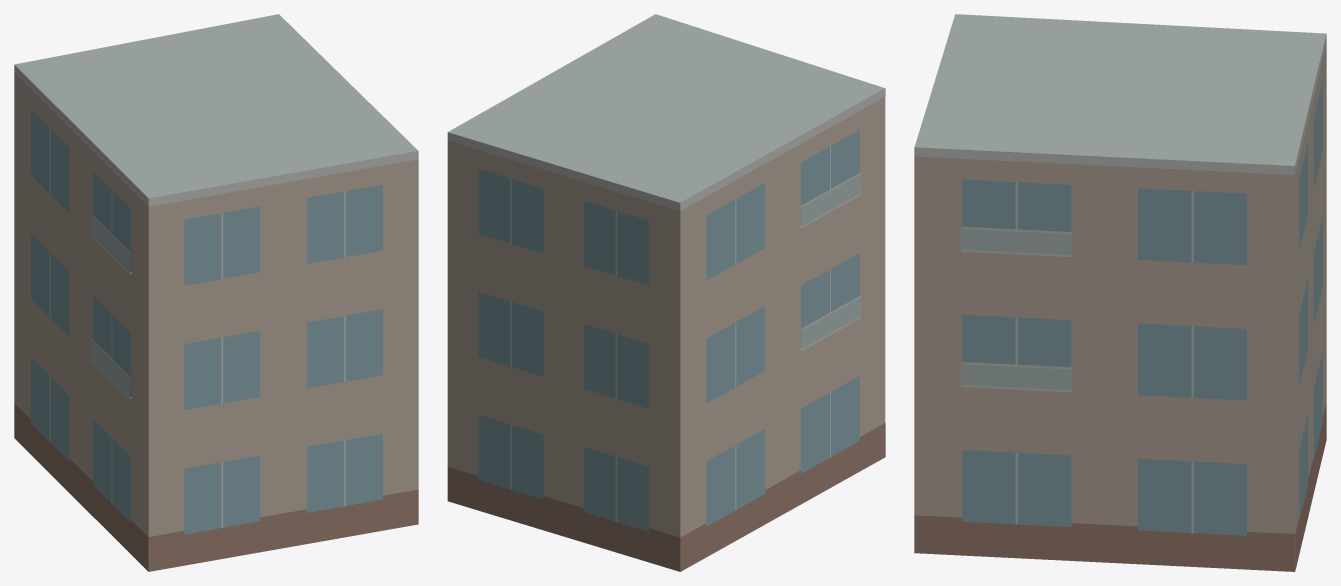
The model's file is survey-upis-32921353.glb.
The picture shows the model from 3 angles, left to right: view 1: azimuth 30°, elevation 25°; view 2: azimuth 150°, elevation 25°; view 3: azimuth 270°, elevation 25°; orthographic projection. The views are drawn at different scales.
Visible parts, largest first — view 1: survey-upis-32921353.tmp; view 2: survey-upis-32921353.tmp; view 3: survey-upis-32921353.tmp.
Boxes of the visible parts, left/top/right/bottom form: survey-upis-32921353.tmp: left=14, top=14, right=418, bottom=571; survey-upis-32921353.tmp: left=447, top=14, right=885, bottom=571; survey-upis-32921353.tmp: left=914, top=14, right=1326, bottom=571.
Bounding box in the file's own units: 8.71 × 10.83 × 9.98.
